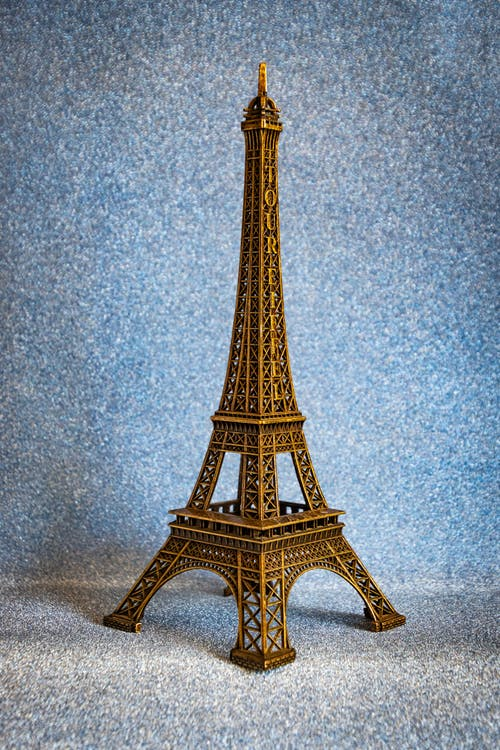eiffel tower: (112, 44, 409, 665)
